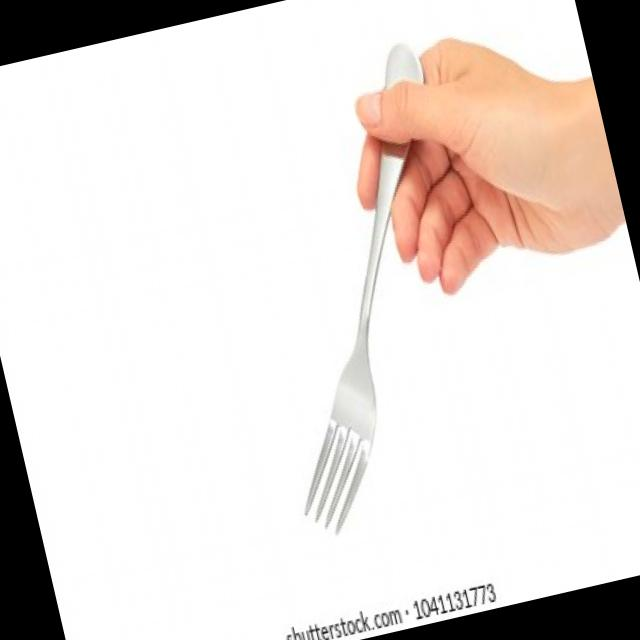fork: (204, 38, 522, 542)
